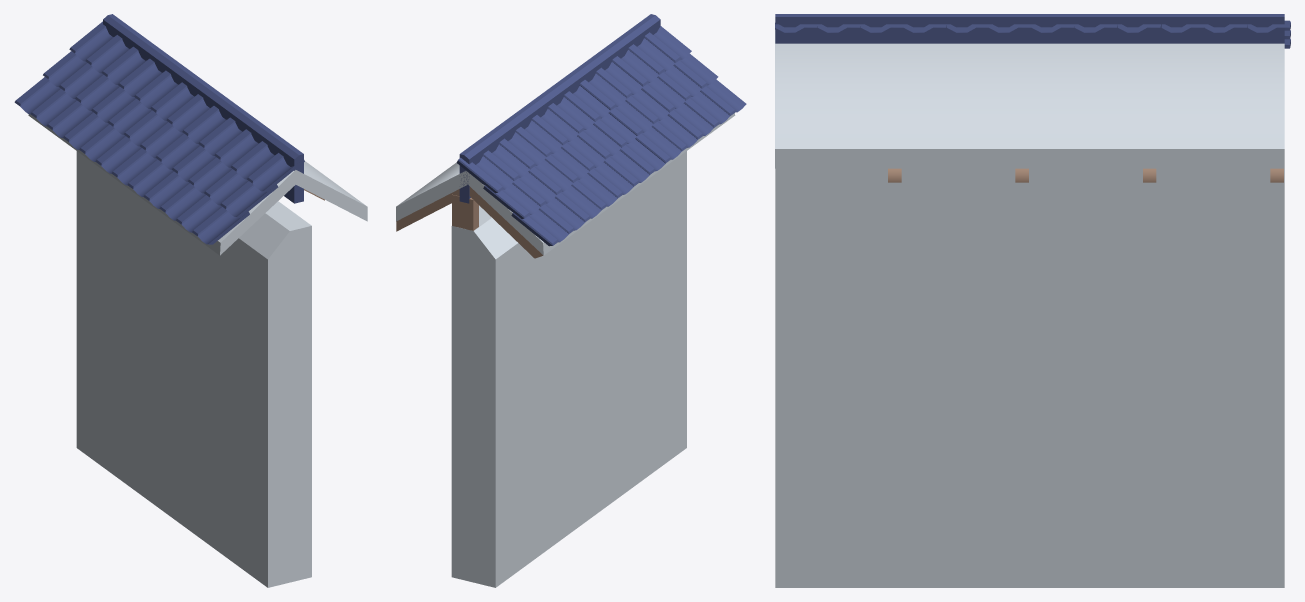
File: WallTall.fbx
3 views of the same model, side by side, from view 1: azimuth 30°, elevation 25°; view 2: azimuth 150°, elevation 25°; view 3: azimuth 270°, elevation 25° (orthographic). The views are drawn at different scales.
Visible parts, largest first — view 1: polySurface1; view 2: polySurface1; view 3: polySurface1.
Boxes of the visible parts, x1,y1,x2,y2 form: polySurface1: (14,14,367,587); polySurface1: (396,14,746,587); polySurface1: (775,14,1290,587).
Bounding box in the file's own units: 2.31 × 5.88 × 4.86.
